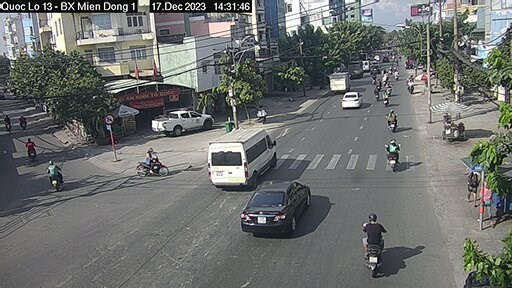car: (211, 126, 276, 180), (246, 179, 312, 232), (150, 107, 215, 137), (338, 91, 364, 108), (346, 64, 363, 77), (369, 63, 381, 74)
motorbike: (360, 215, 385, 272), (44, 159, 68, 192), (136, 149, 167, 173), (382, 135, 401, 171), (385, 110, 401, 130)
truck: (327, 70, 351, 95)
